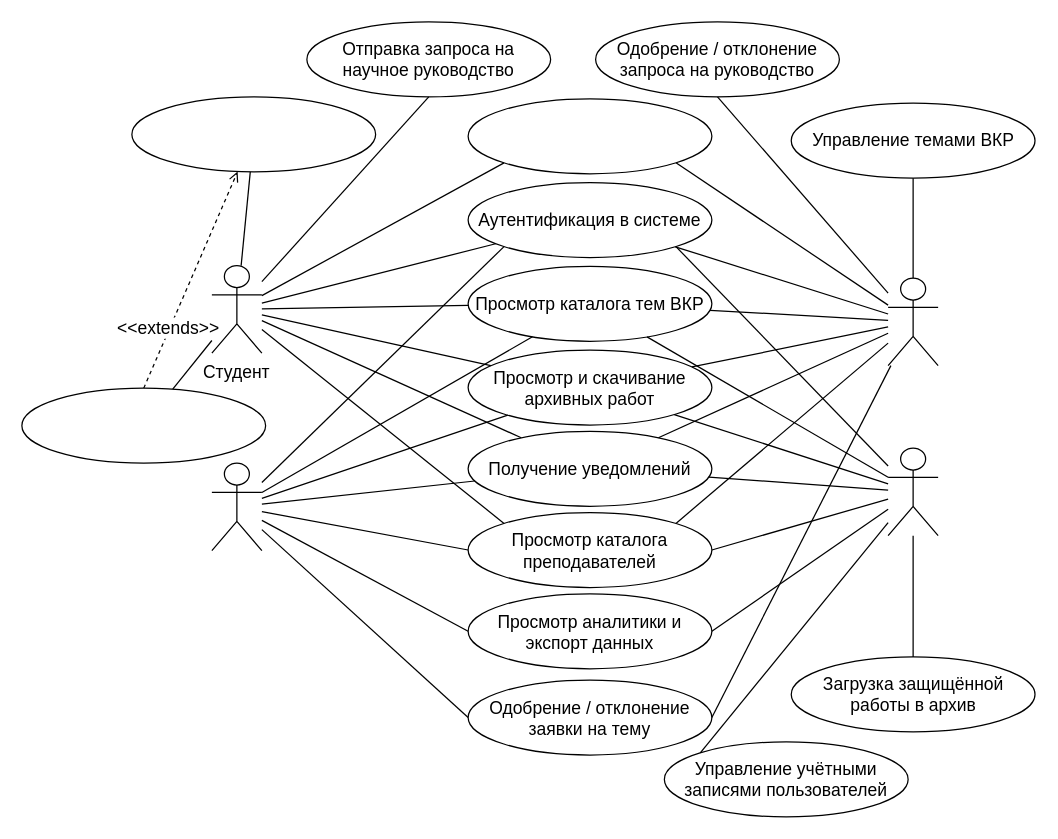
Some shapes in this 1058 by 839 pixel diagram are drawn without their labels. The shapes that lost their labels are listed below. From the top down, each one's centre as x and y in pixels, then its label:
At (x=253, y=134): "Подача заявки на тему ВКР".
At (x=589, y=136): "Обмен сообщениями в чате заявки".
At (x=912, y=321): "Преподаватель".
At (x=143, y=425): "Предложение собственной темы".
At (x=236, y=506): "Заведующий кафедрой".
At (x=912, y=491): "Администратор".
